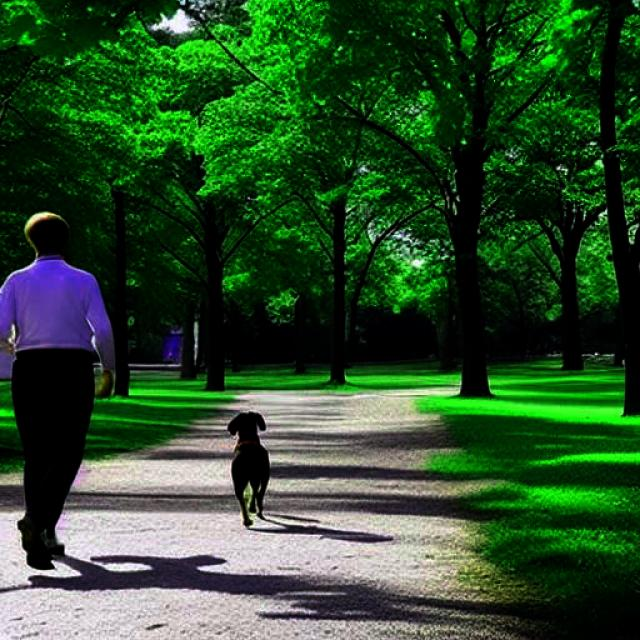Unleashed_Dog: (18, 411, 270, 529)
